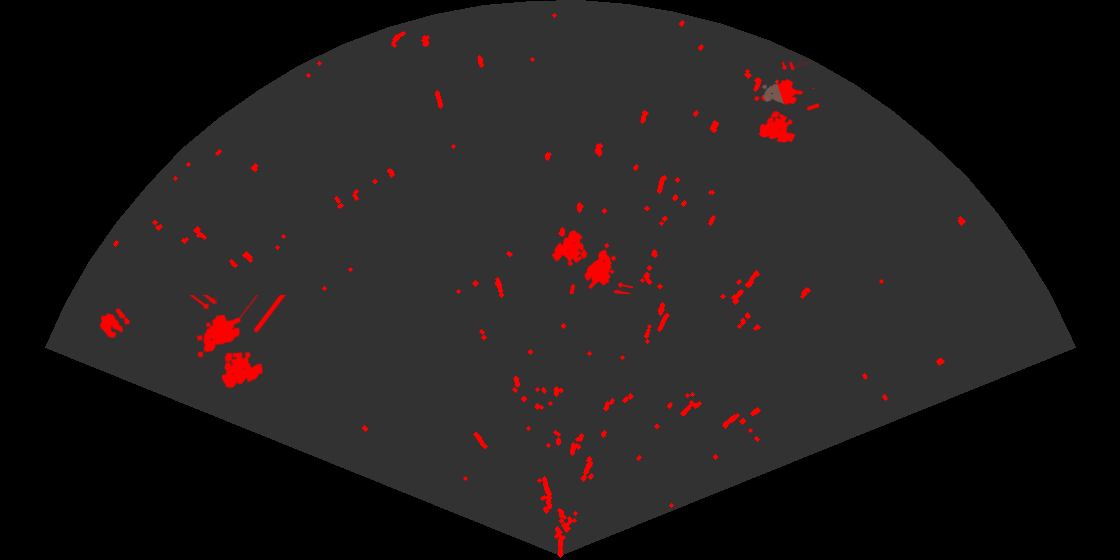ball: (98, 307, 132, 340)
cage: (188, 295, 288, 390), (753, 62, 819, 145), (550, 229, 633, 294)
